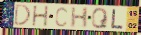C: (55, 7, 69, 28)
D: (13, 4, 32, 27)
H: (70, 7, 90, 29), (32, 5, 50, 27)
L: (110, 9, 124, 30)
Q: (91, 7, 110, 30)
